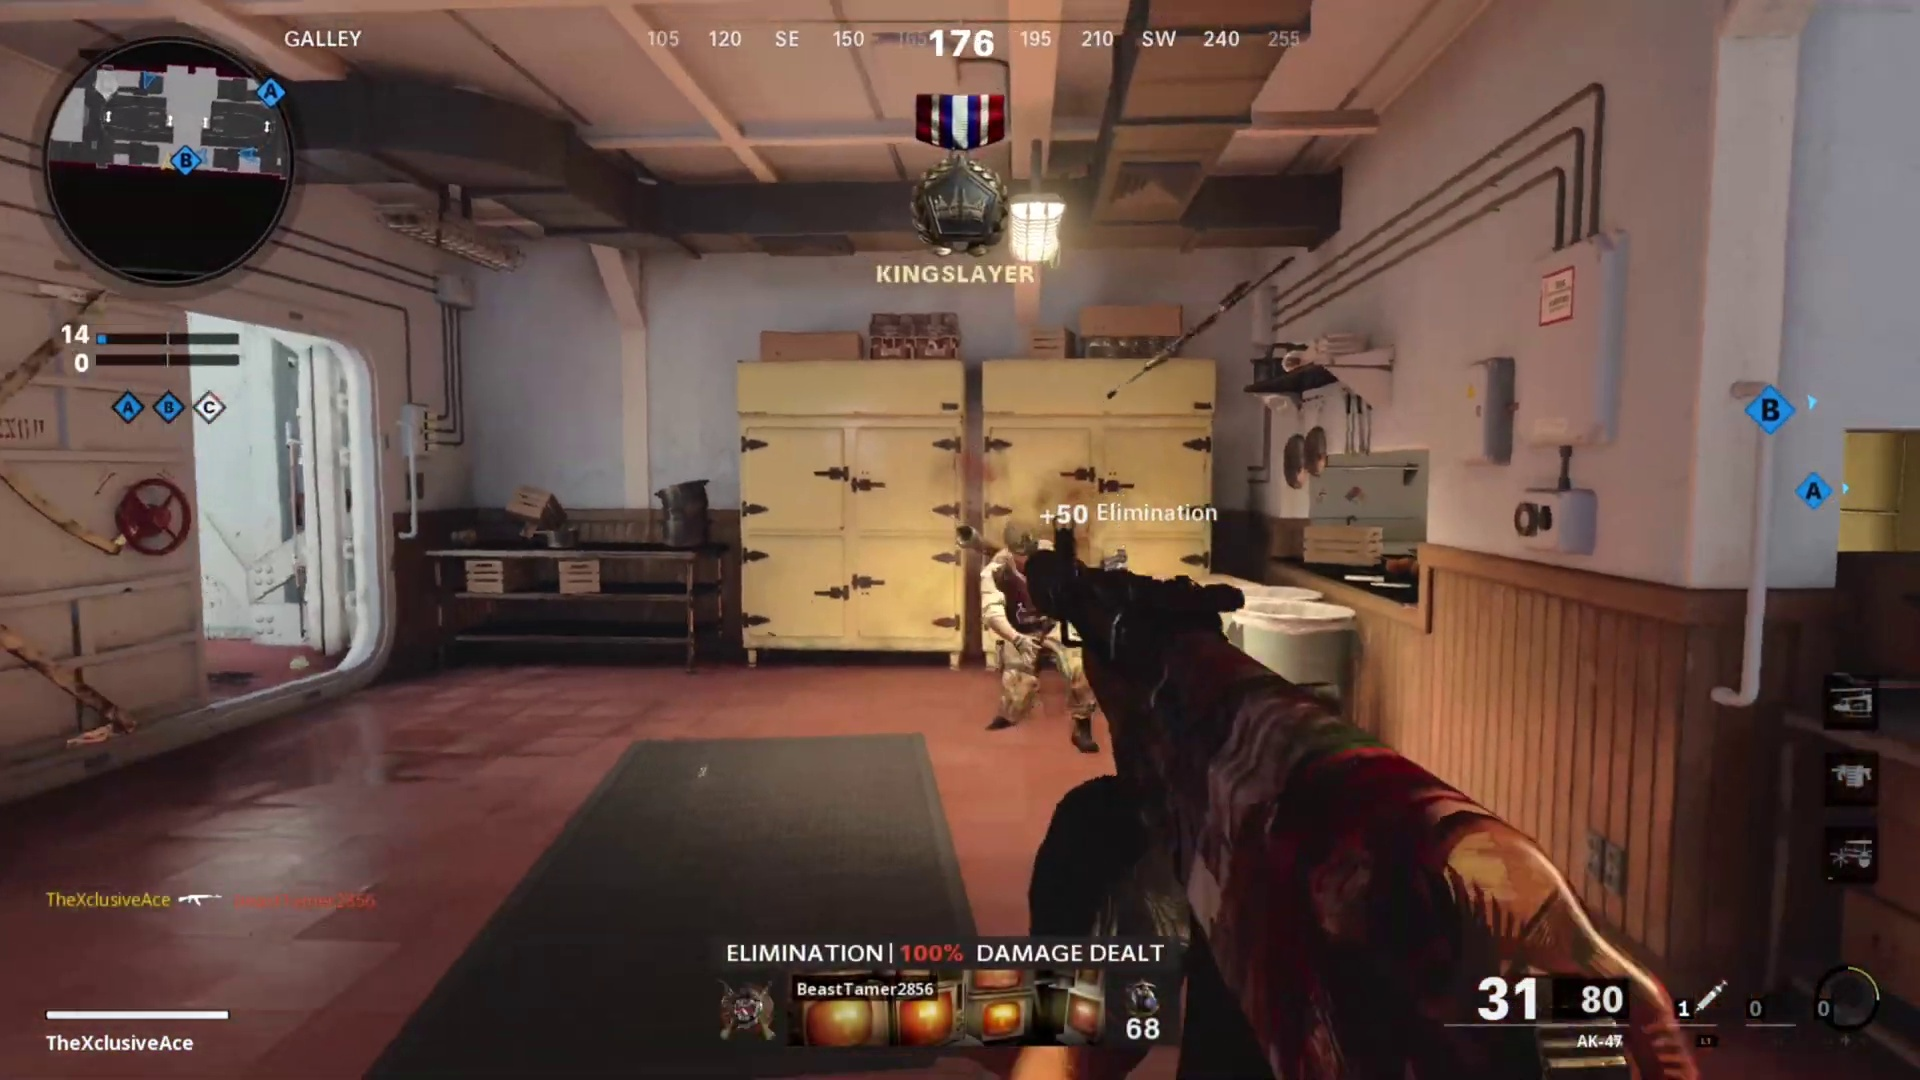person: (978, 522, 1079, 742)
